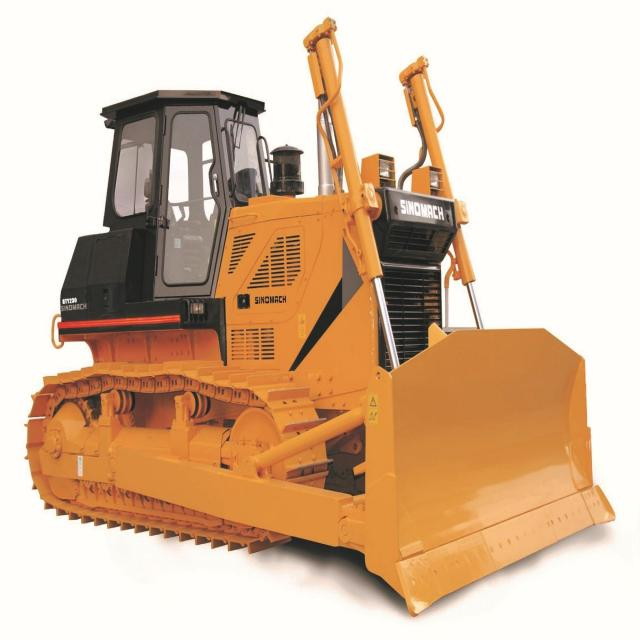Bulldozer: (24, 19, 620, 617)
